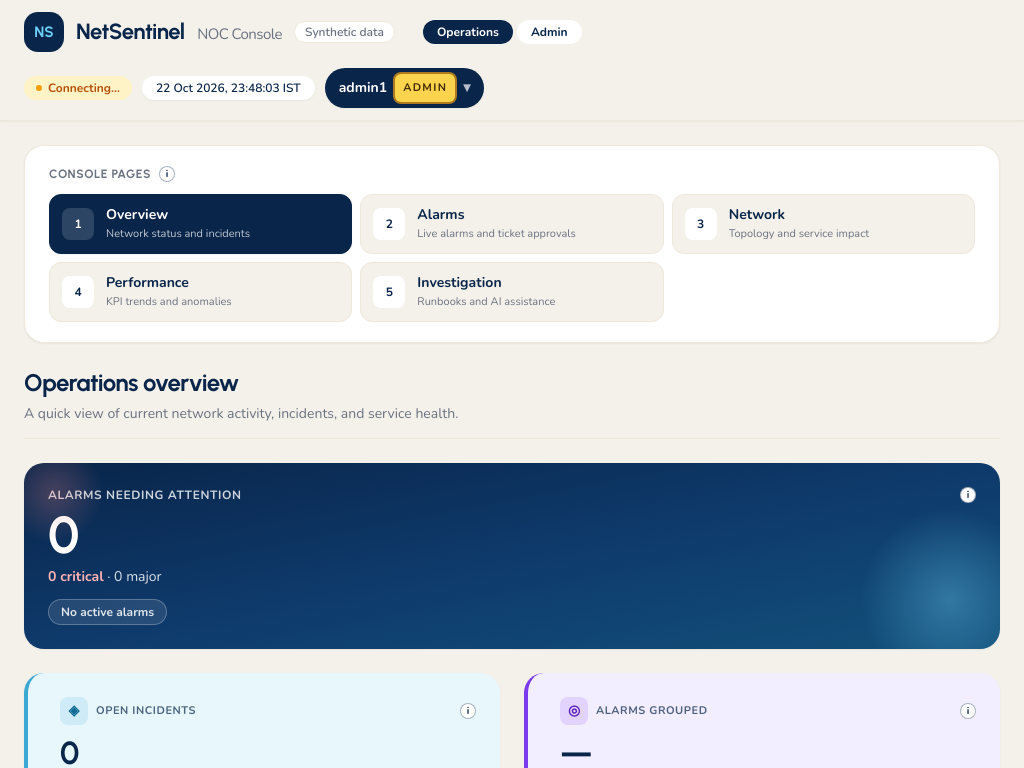
Test: role-specific dashboards (Step 13b) › admin: Admin dashboard with users, audit log and settings
Click the button "Admin".
click(549, 32)  # box [517,20,582,44]
(page scrolled)
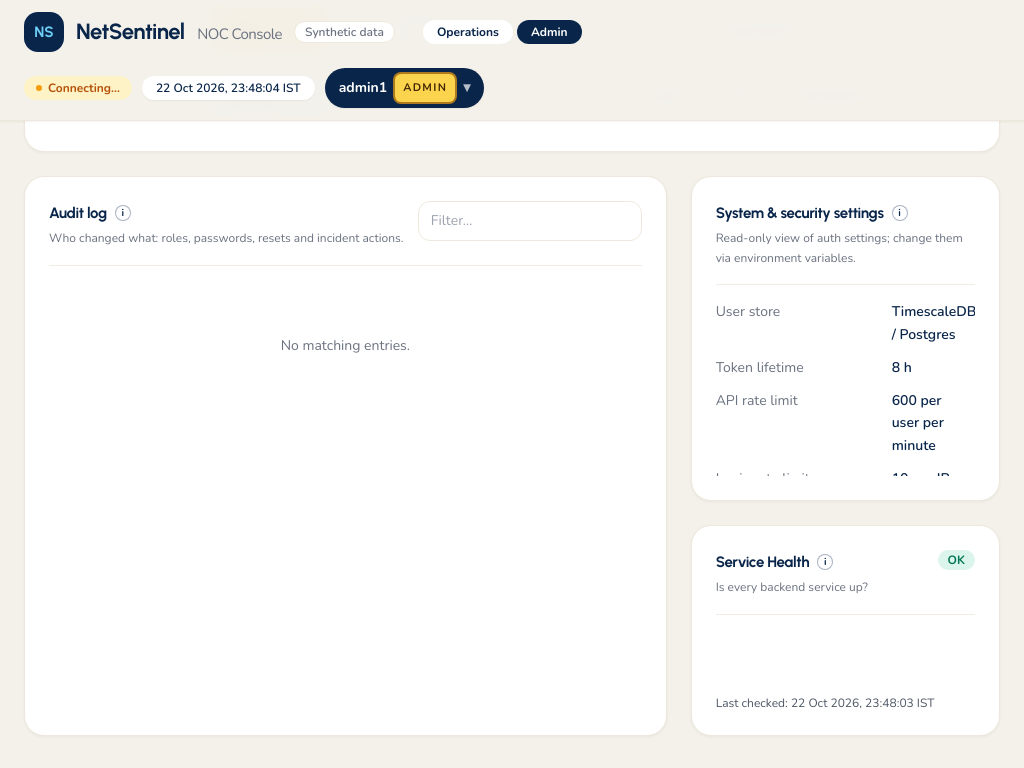
Expected: the table with test id "users-table" shows "ops1", [61,86,95,102]
Expected: the element with test id "audit-log" is shown, [24,176,667,736]
